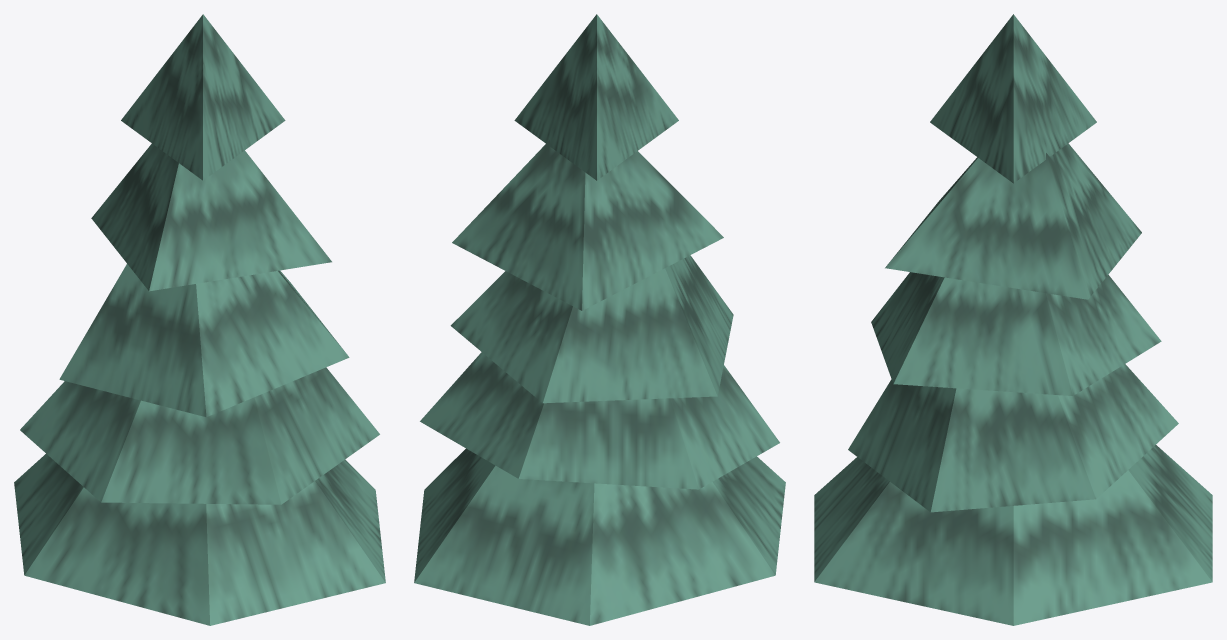
The model's file is env_Tree_Coniferous_B.fbx.
3 renders of one model, left to right at view 1: azimuth 30°, elevation 25°; view 2: azimuth 150°, elevation 25°; view 3: azimuth 270°, elevation 25°, orthographic.
Parts seen in each view (by area): view 1: env_Tree_Coniferous_B; view 2: env_Tree_Coniferous_B; view 3: env_Tree_Coniferous_B.
Part boxes in pixels (bbox=[...]): env_Tree_Coniferous_B: bbox=[14, 14, 385, 625]; env_Tree_Coniferous_B: bbox=[414, 14, 785, 625]; env_Tree_Coniferous_B: bbox=[814, 14, 1212, 625].
Size of the model in its own units: 530 by 746 by 512.
